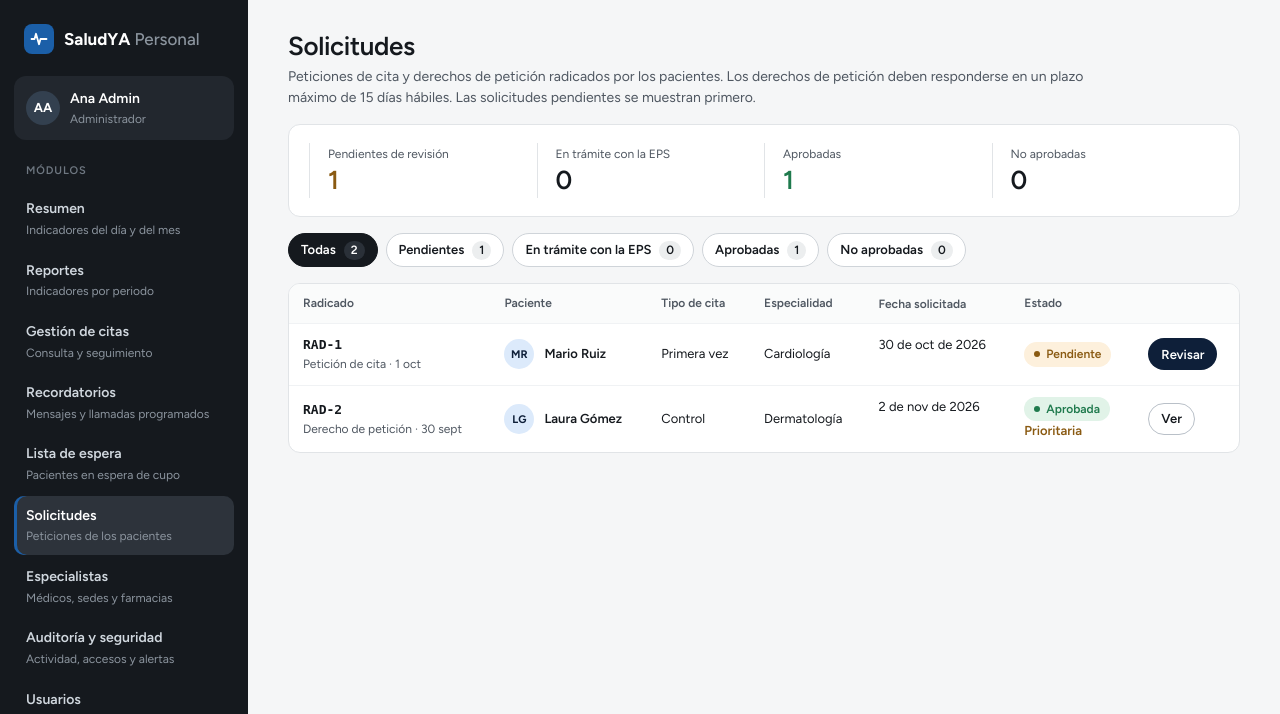
it: Lista de solicitudes del personal › cuenta por estado, filtra y lleva a la revisión
Expected: the text "RAD-1" is shown, x1=303 y1=337 x2=342 y2=352
Expected: the text "Prioritaria" is shown, x1=1024 y1=423 x2=1082 y2=438
Click the button "Aprobadas 1": [761, 250] box x1=702 y1=233 x2=819 y2=267
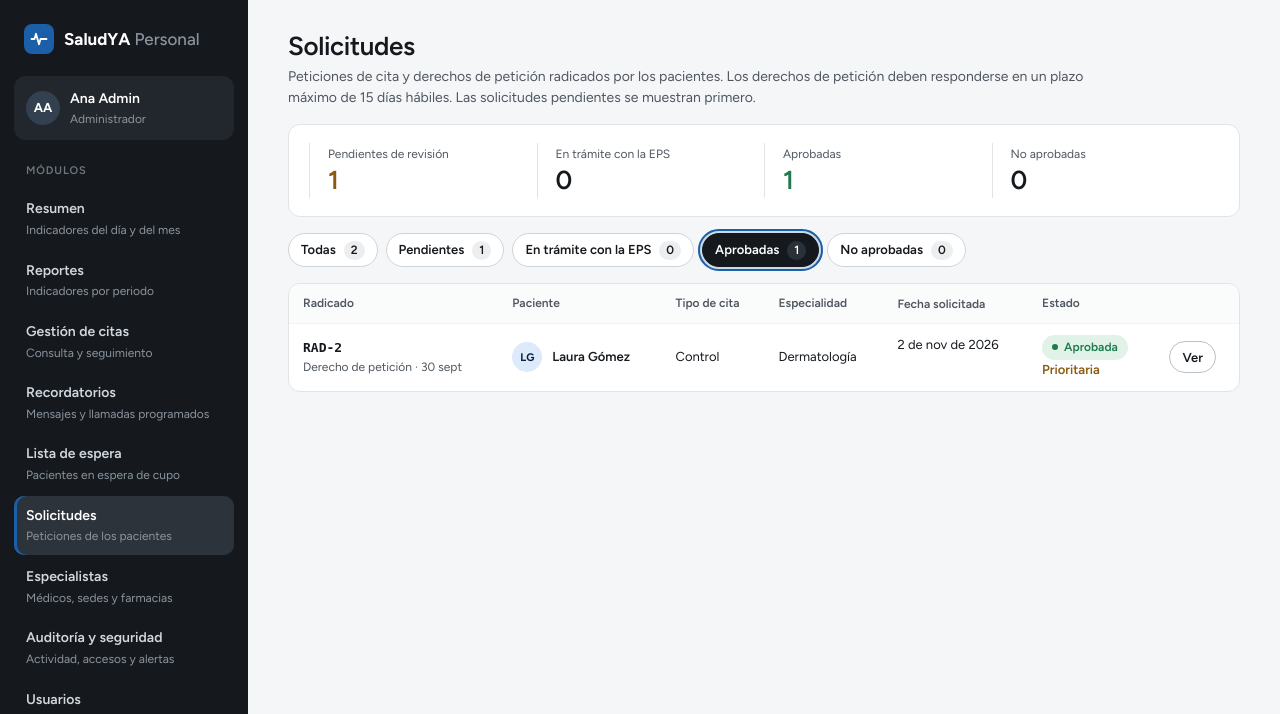
Expected: the text "RAD-1" is gone
Click the button "No aprobadas 0": [896, 250] box x1=827 y1=233 x2=966 y2=267
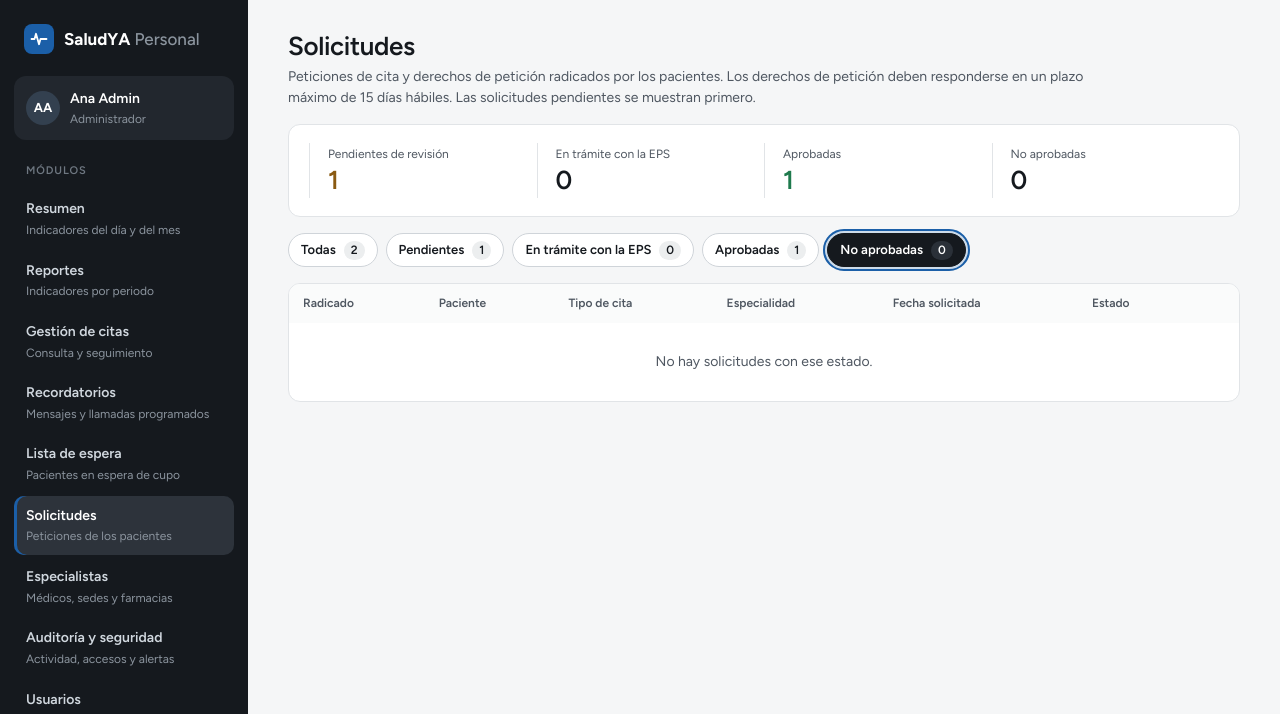
Expected: the text "No hay solicitudes con ese estado." is shown, x1=656 y1=353 x2=872 y2=370
